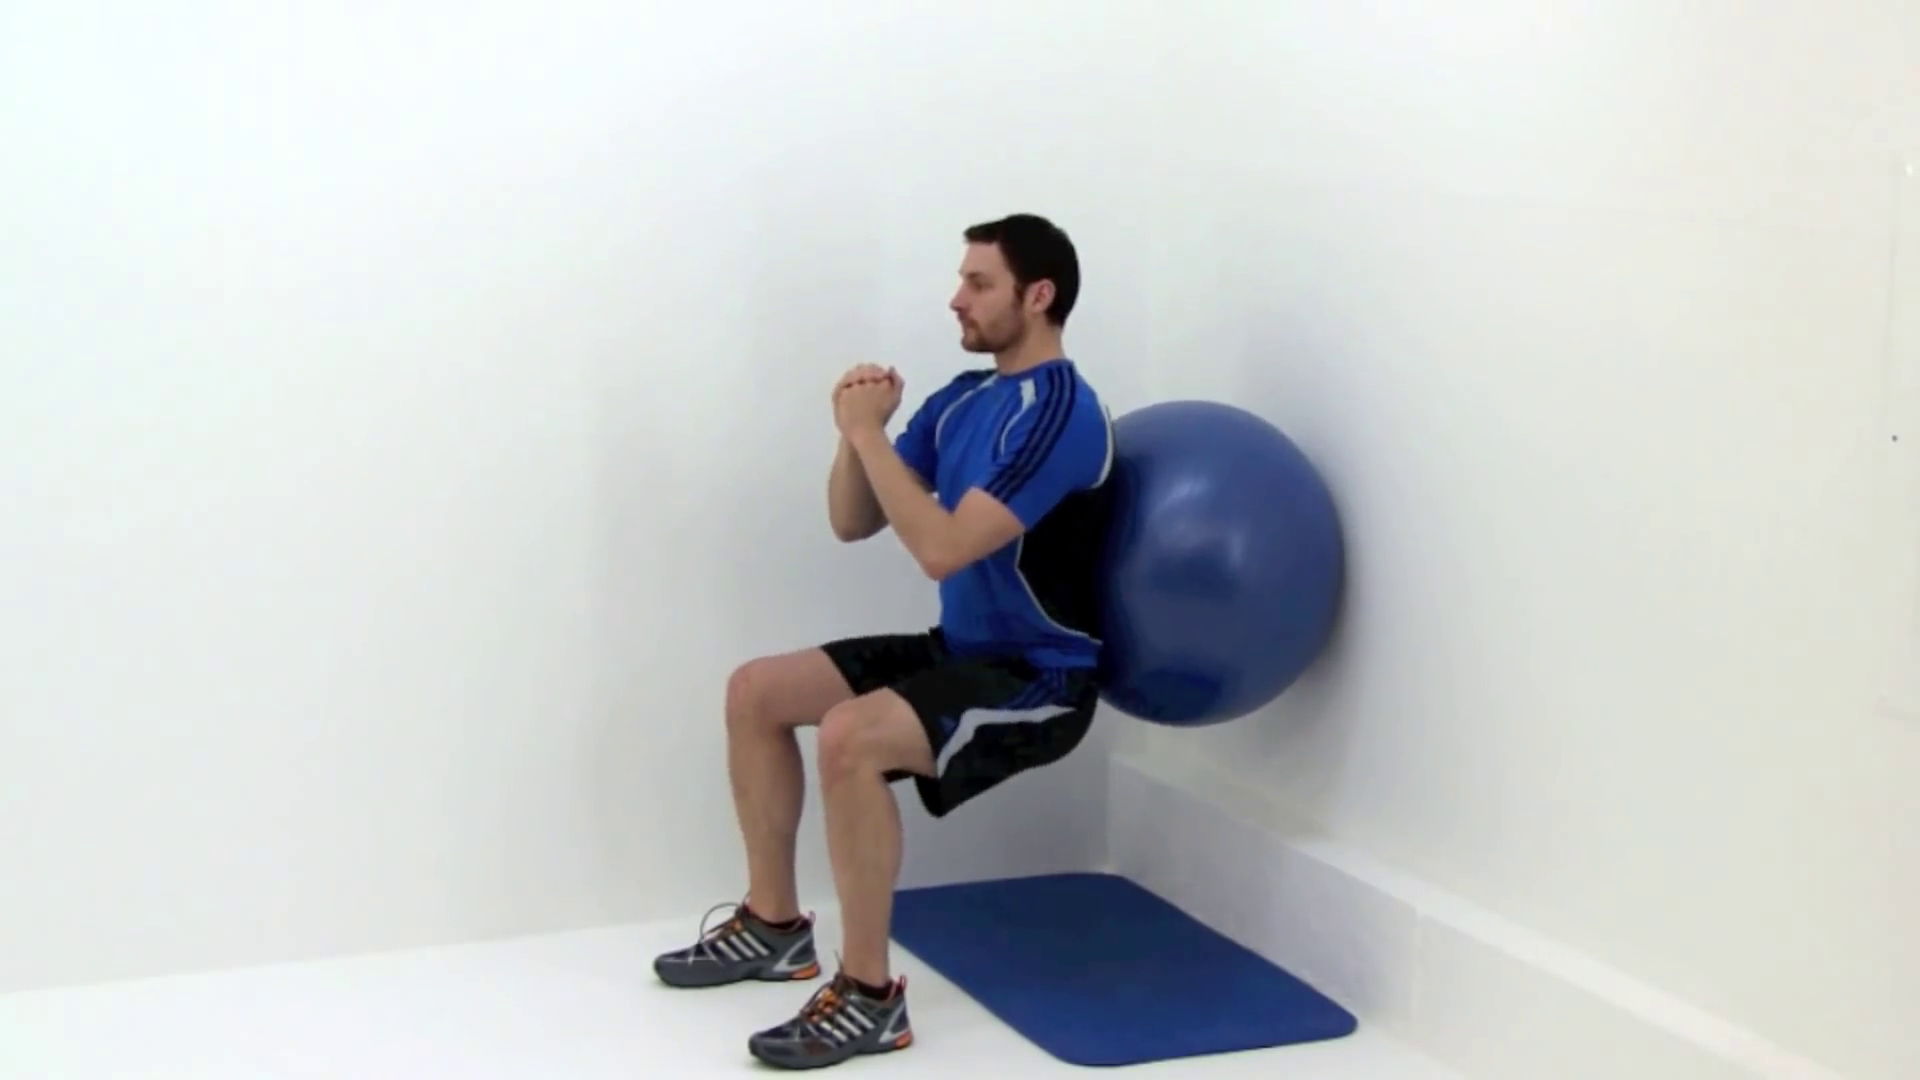yogaball: (1068, 389, 1357, 754)
